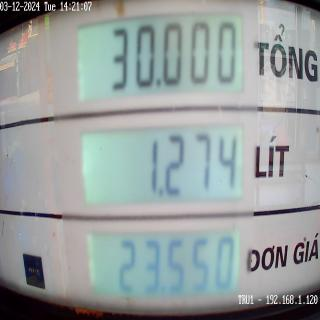screen: (70, 0, 248, 319)
